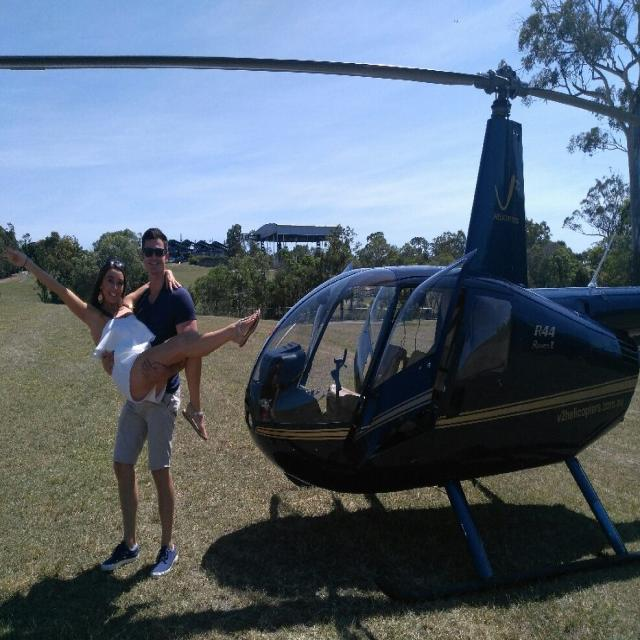helicopter: (63, 61, 637, 603)
